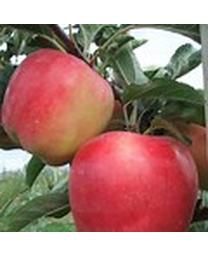apple: (2, 49, 116, 167), (69, 131, 198, 233)
